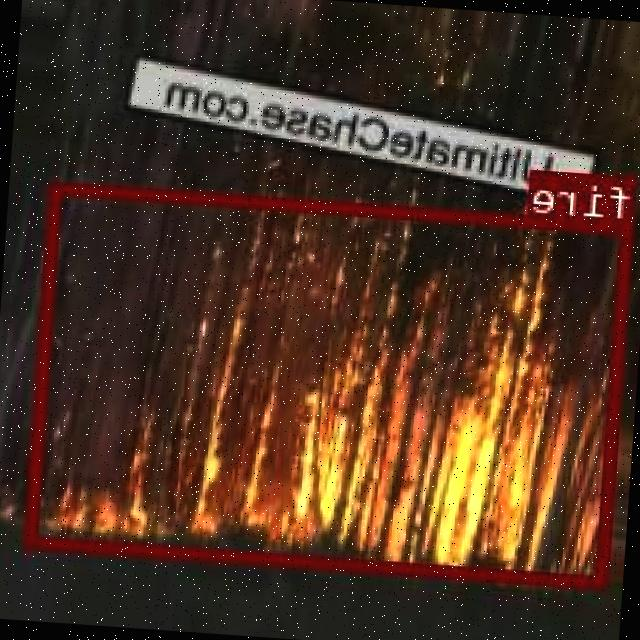fire: (26, 180, 635, 587)
